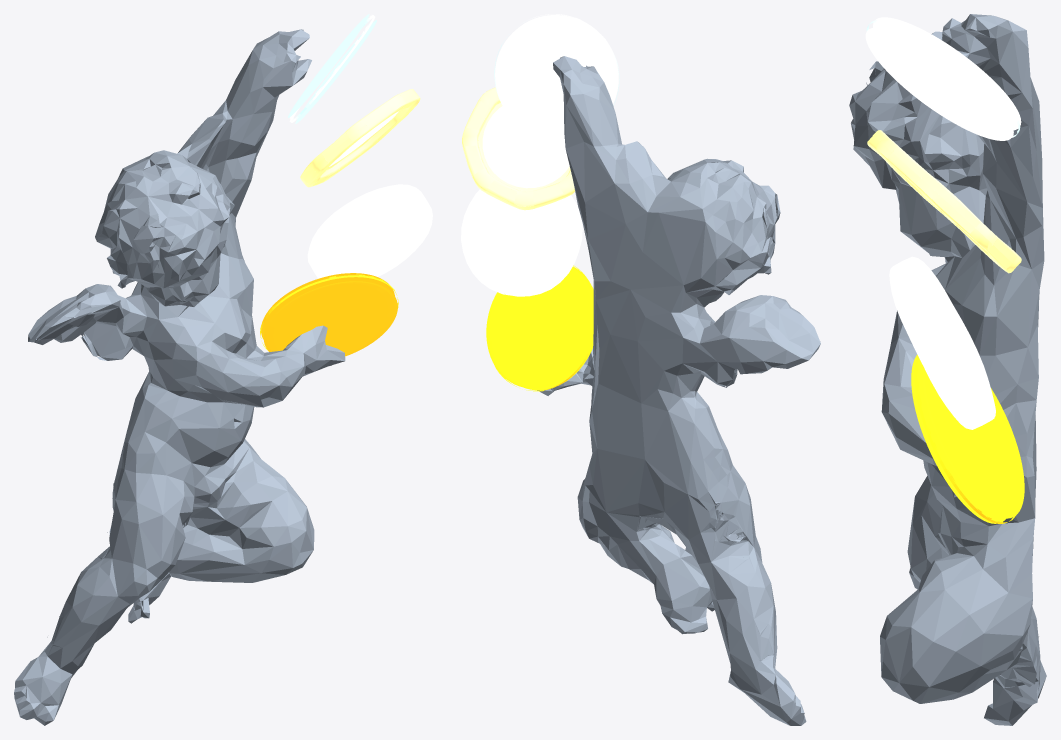
Rendered from angelOfCurrencies.glb.
3 views of the same model, side by side, from view 1: azimuth 30°, elevation 25°; view 2: azimuth 150°, elevation 25°; view 3: azimuth 270°, elevation 25° (orthographic). The views are drawn at different scales.
Visible parts, largest first — view 1: Object_14, Object_4.001, C_metal_HP_100Cent_bitcoin_0, Object_8.001, C_metal_HP_100Cent.001_ethereum_0; view 2: Object_14, Object_4.001, C_metal_HP_100Cent_bitcoin_0, C_metal_HP_100Cent.001_ethereum_0, Object_8.001; view 3: Object_14, C_metal_HP_100Cent.001_ethereum_0, C_metal_HP_100Cent_bitcoin_0, Object_4.001, Object_8.001.
Boxes of the visible parts, x1=… form: Object_14: x1=14, y1=29, x2=345, y2=725; Object_4.001: x1=307, y1=184, x2=432, y2=278; C_metal_HP_100Cent_bitcoin_0: x1=260, y1=273, x2=398, y2=356; Object_8.001: x1=300, y1=89, x2=420, y2=187; C_metal_HP_100Cent.001_ethereum_0: x1=288, y1=14, x2=376, y2=123; Object_14: x1=537, y1=56, x2=820, y2=725; Object_4.001: x1=461, y1=189, x2=582, y2=296; C_metal_HP_100Cent_bitcoin_0: x1=486, y1=265, x2=593, y2=391; C_metal_HP_100Cent.001_ethereum_0: x1=494, y1=14, x2=619, y2=139; Object_8.001: x1=462, y1=87, x2=574, y2=210; Object_14: x1=849, y1=14, x2=1046, y2=725; C_metal_HP_100Cent.001_ethereum_0: x1=865, y1=17, x2=1021, y2=140; C_metal_HP_100Cent_bitcoin_0: x1=911, y1=354, x2=1024, y2=523; Object_4.001: x1=889, y1=256, x2=995, y2=429; Object_8.001: x1=867, y1=130, x2=1021, y2=273.
Bounding box in the file's own units: 0.5803 × 0.9459 × 0.1896.
